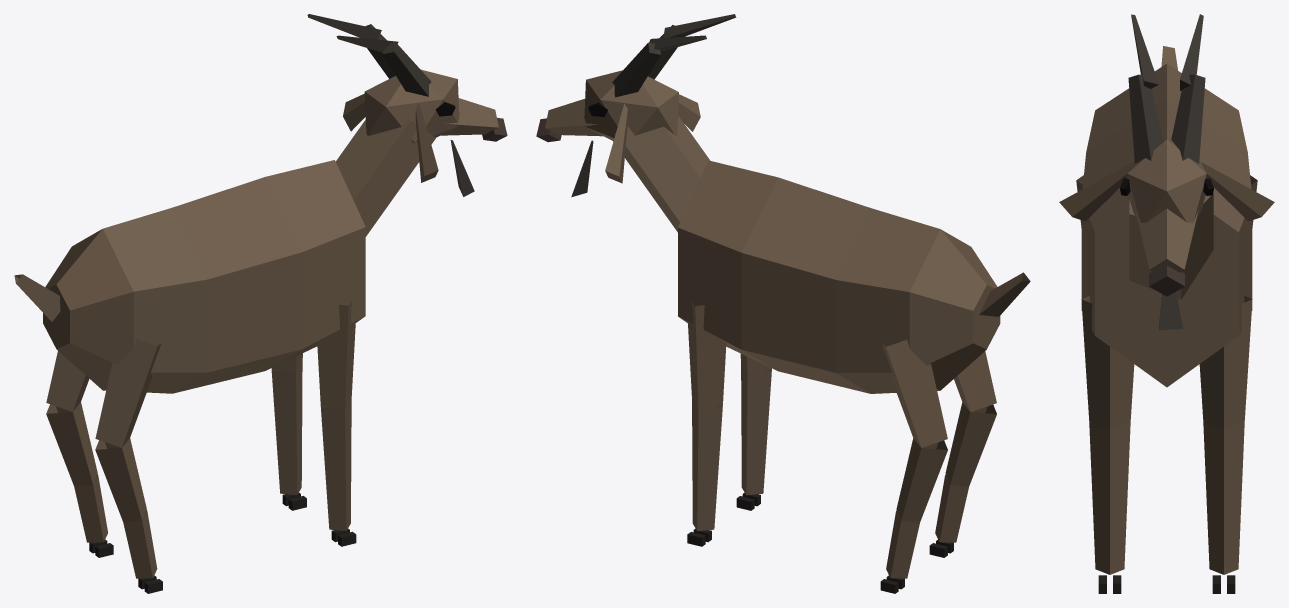
File: Cabra.obj
3 renders of one model, left to right at view 1: azimuth 30°, elevation 25°; view 2: azimuth 150°, elevation 25°; view 3: azimuth 270°, elevation 25°, orthographic. The views are drawn at different scales.
Parts seen in each view (by area): view 1: Tronco, Pata_TD, Pata_DD, Pata_TI, Pata_DI; view 2: Tronco, Pata_TI, Pata_DI, Pata_TD, Pata_DD; view 3: Tronco, Pata_DI, Pata_DD.
Boxes of the visible parts, <box> form: Tronco: <box>14,14,507,393</box>; Pata_TD: <box>95,339,162,593</box>; Pata_DD: <box>317,301,356,546</box>; Pata_TI: <box>46,351,113,557</box>; Pata_DI: <box>271,353,306,510</box>; Tronco: <box>536,14,1030,393</box>; Pata_TI: <box>880,340,947,593</box>; Pata_DI: <box>687,301,726,546</box>; Pata_TD: <box>929,351,996,557</box>; Pata_DD: <box>736,354,771,510</box>; Tronco: <box>1059,14,1274,387</box>; Pata_DI: <box>1199,296,1252,593</box>; Pata_DD: <box>1081,296,1134,593</box>.
Bounding box in the file's own units: 1.27 × 1.23 × 0.4162.
